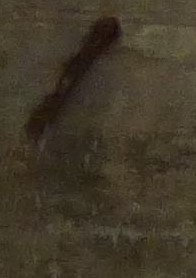Exposed reinforcement: (25, 16, 121, 141)
